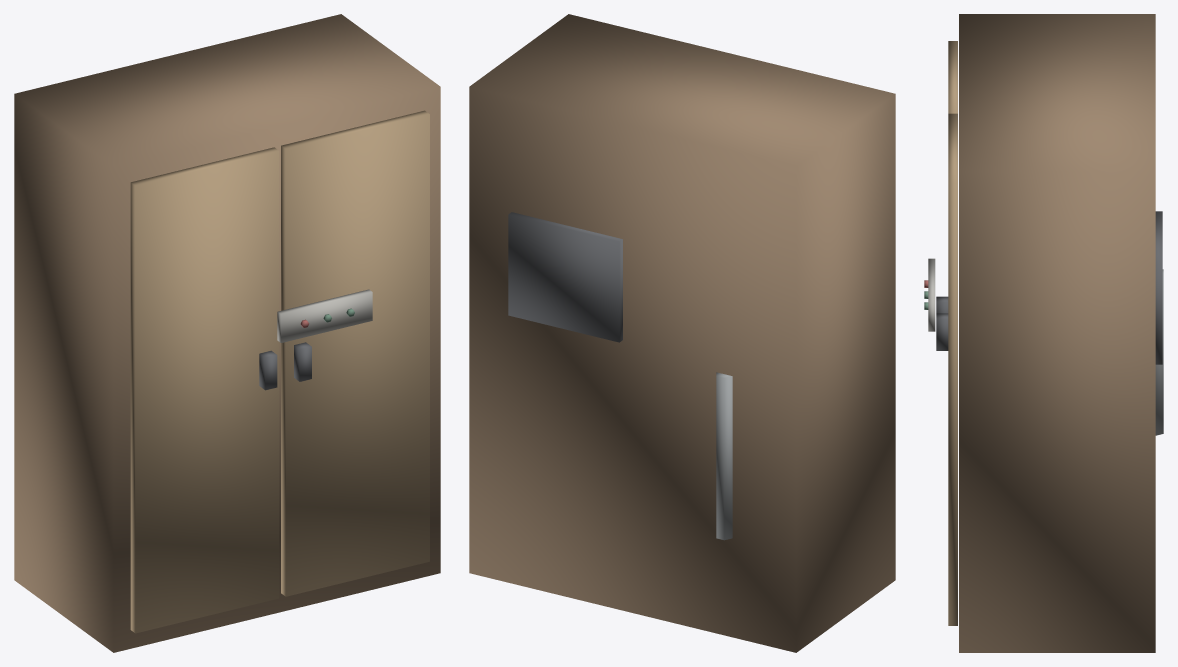
The model's file is kitchen_wall_cabinet__service.glb.
The picture shows the model from 3 angles, left to right: view 1: azimuth 30°, elevation 25°; view 2: azimuth 150°, elevation 25°; view 3: azimuth 270°, elevation 25°; orthographic projection.
Parts seen in each view (by area): view 1: world; view 2: world; view 3: world.
Boxes of the visible parts, x1,y1,x2,y2 form: world: (14,14,440,652); world: (469,14,895,652); world: (924,14,1163,652).
Bounding box in the file's own units: 0.95 × 1.35 × 0.6091.
